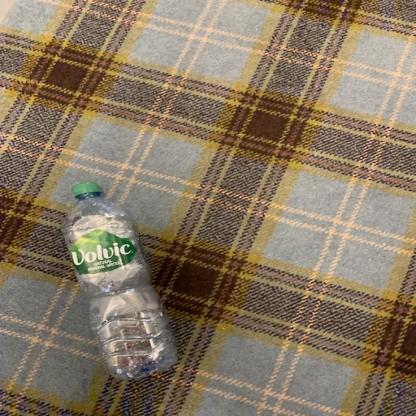trash: (61, 182, 179, 382)
